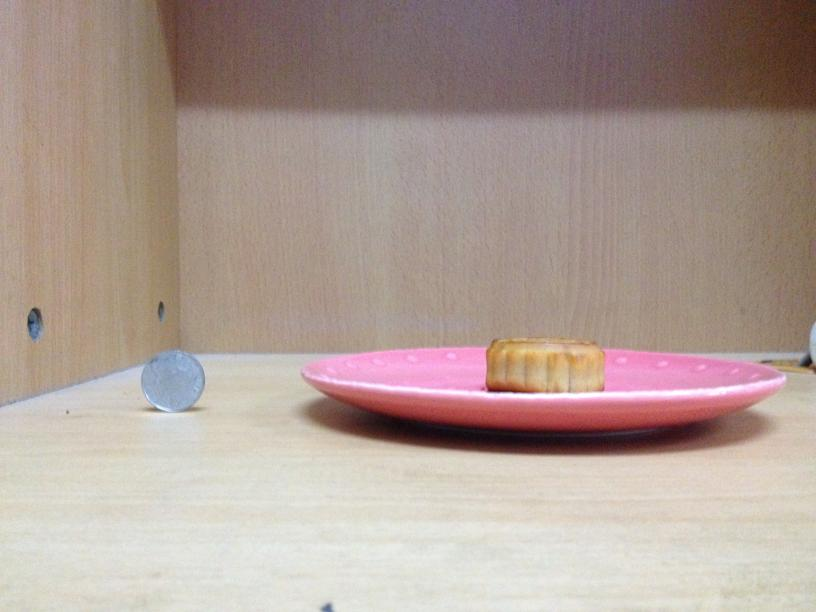coin: (139, 352, 203, 411)
mooncake: (481, 338, 606, 394)
